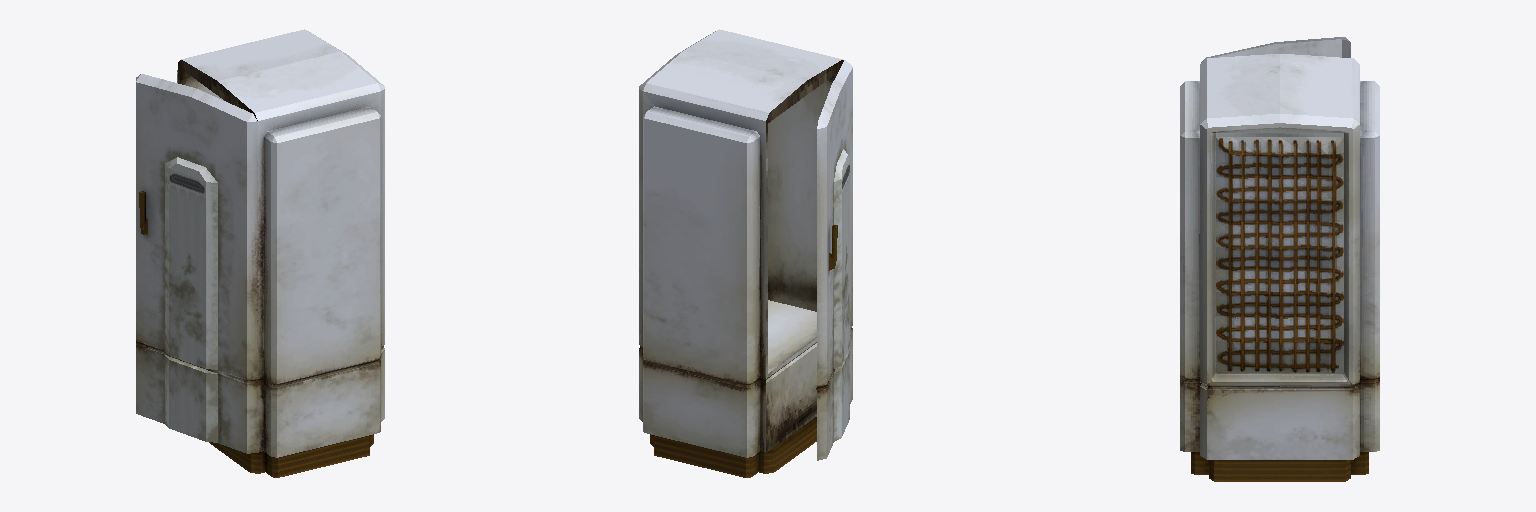
3 renders of one model, left to right at view 1: azimuth 30°, elevation 25°; view 2: azimuth 150°, elevation 25°; view 3: azimuth 270°, elevation 25°, orthographic.
Visible parts, largest first — view 1: fridge; view 2: fridge; view 3: fridge.
Boxes of the visible parts, box(x1,y1,x2,y2) form: fridge: box(136, 29, 384, 477); fridge: box(639, 29, 852, 477); fridge: box(1180, 37, 1379, 481).
Size of the model in its own units: 104 by 197 by 96.92.
Materials: 1 (1 with a texture image).